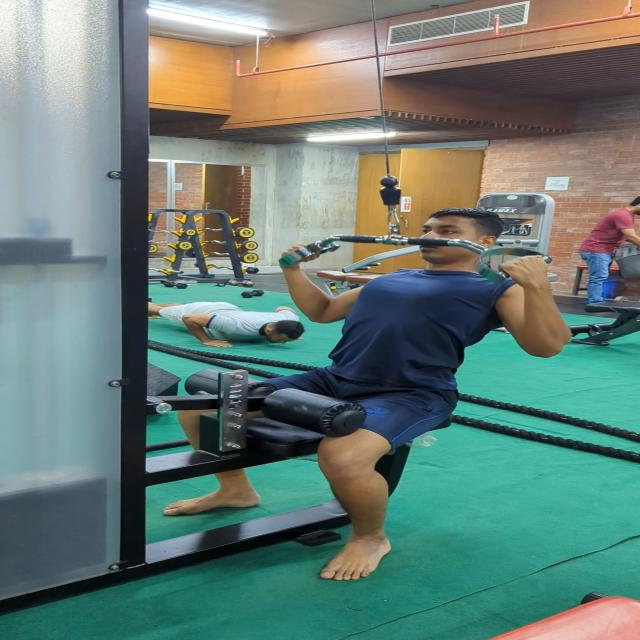Normal_LatPulldown: (160, 188, 581, 587)
